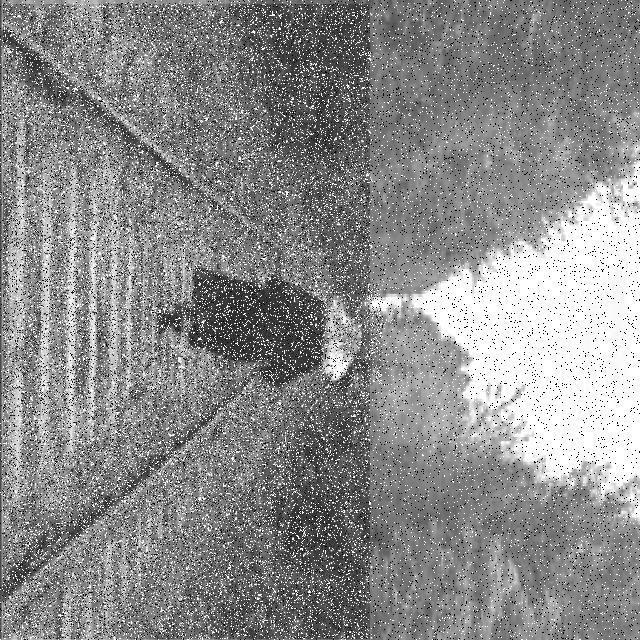rail: (4, 6, 371, 640)
